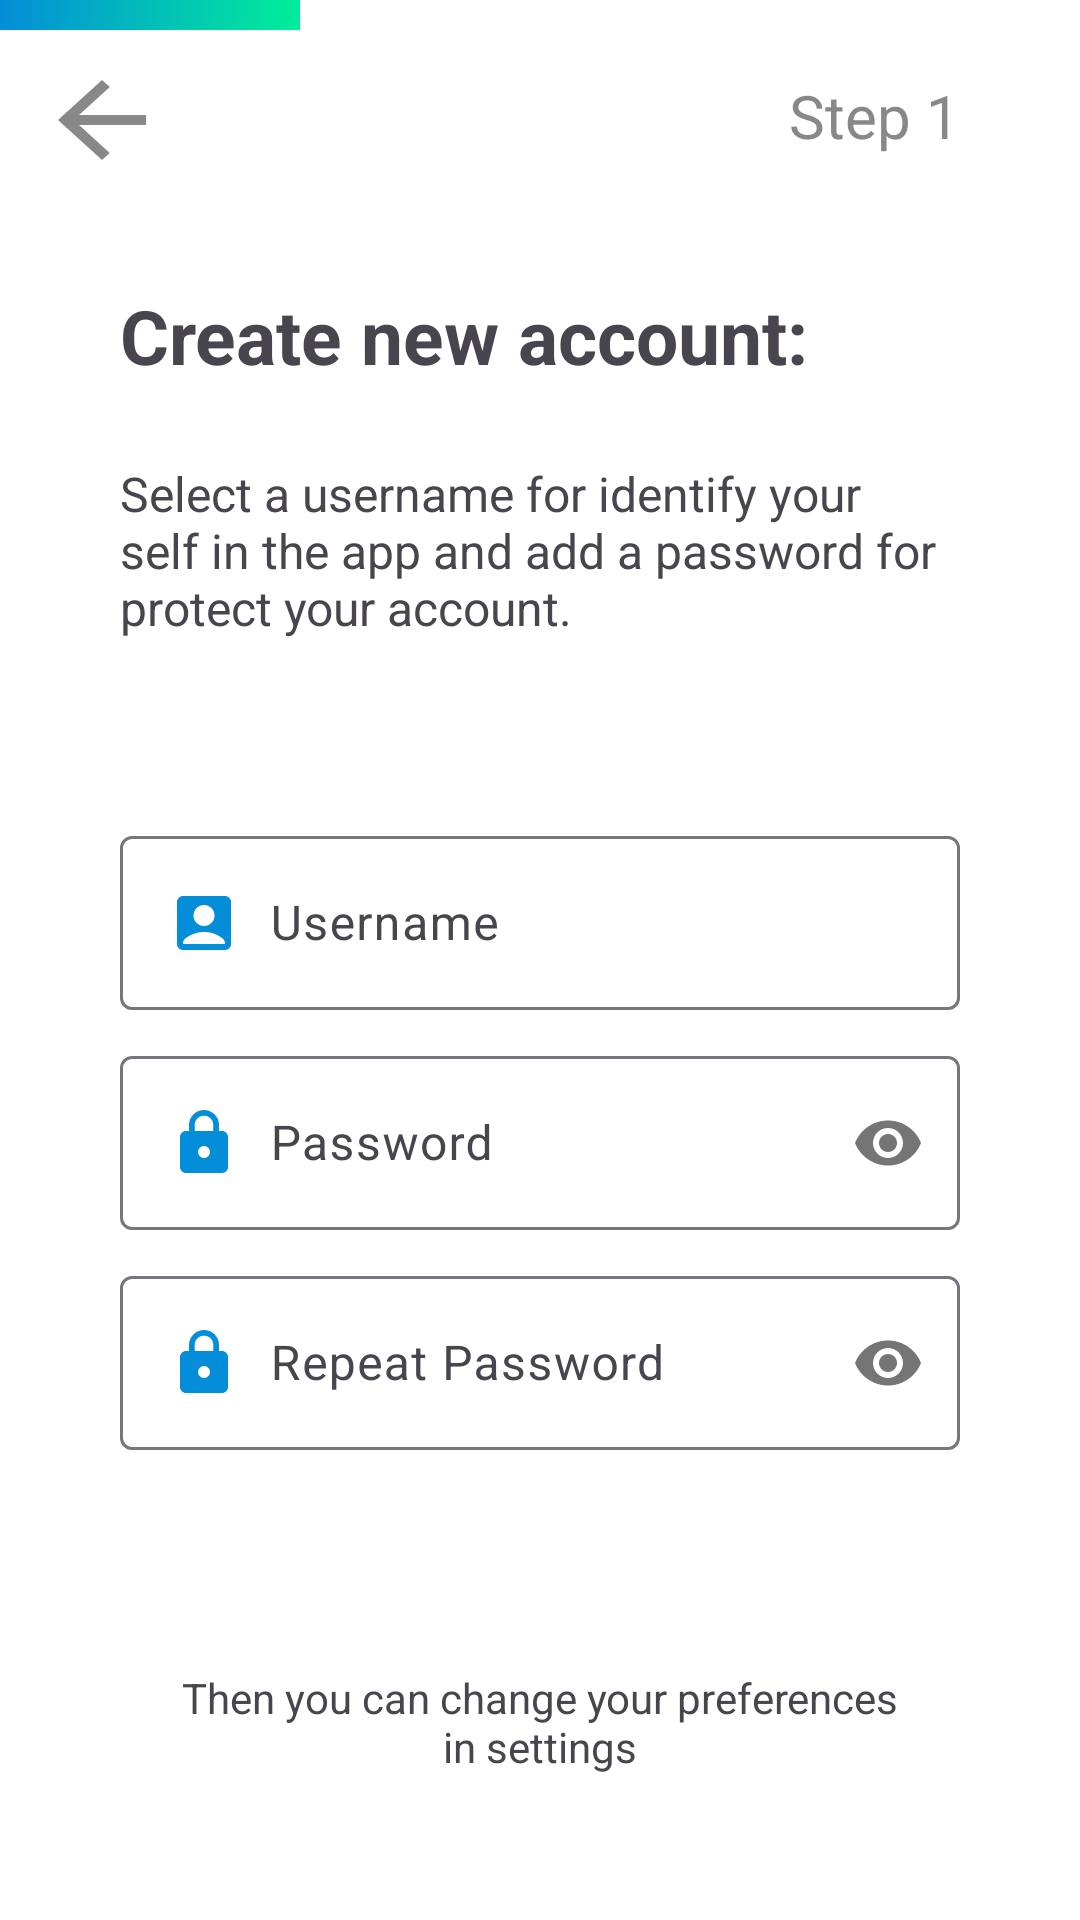

Locate icon controls on the screen. Image size 1080px x 1920px, boxes as (x1, y1, x2, y2).
go back: (58, 80, 146, 160)
